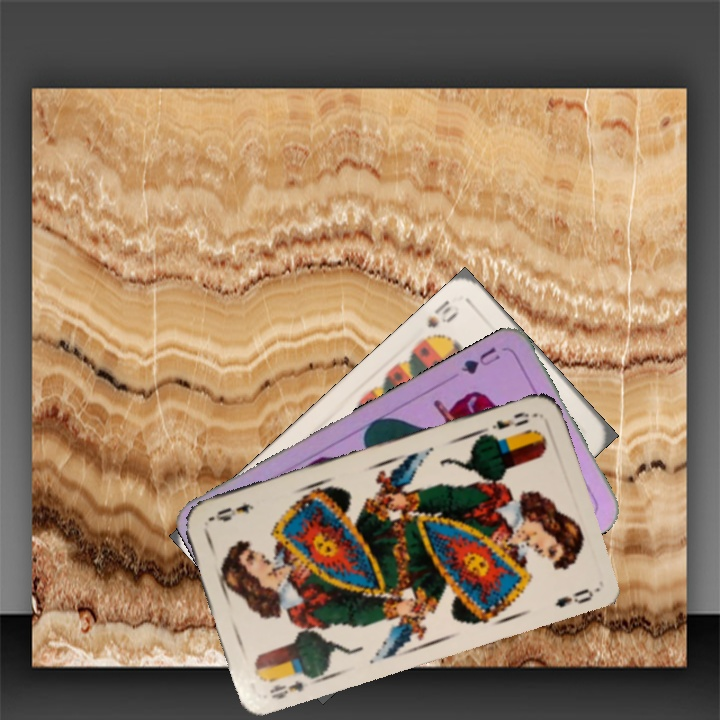EO: (487, 408, 532, 432), (265, 677, 306, 702)
GU: (456, 342, 503, 378)
S10: (423, 295, 462, 331)
